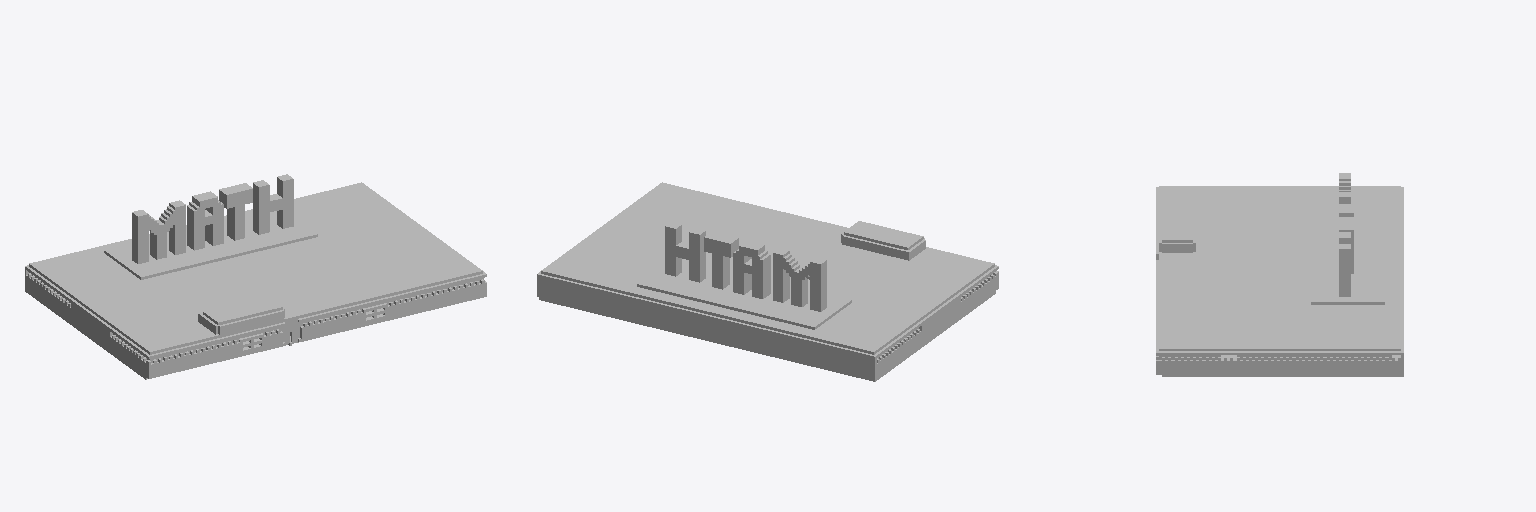
The model's file is Finished baldis basics schoolhouse.obj.
3 views of the same model, side by side, from view 1: azimuth 30°, elevation 25°; view 2: azimuth 150°, elevation 25°; view 3: azimuth 270°, elevation 25° (orthographic).
Visible parts, largest first — view 1: object 1; view 2: object 1; view 3: object 1.
Boxes of the visible parts, x1=… form: object 1: x1=25, y1=174, x2=486, y2=379; object 1: x1=537, y1=182, x2=998, y2=381; object 1: x1=1156, y1=173, x2=1403, y2=376.
Bounding box in the file's own units: 12.6 × 2.8 × 8.